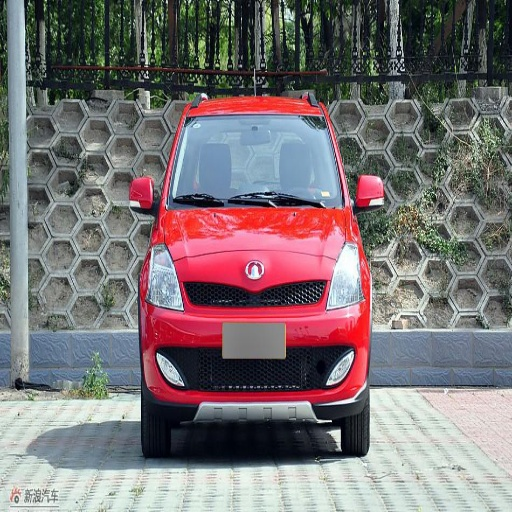front_bumper: (149, 280, 368, 422)
hood: (161, 209, 356, 290)
